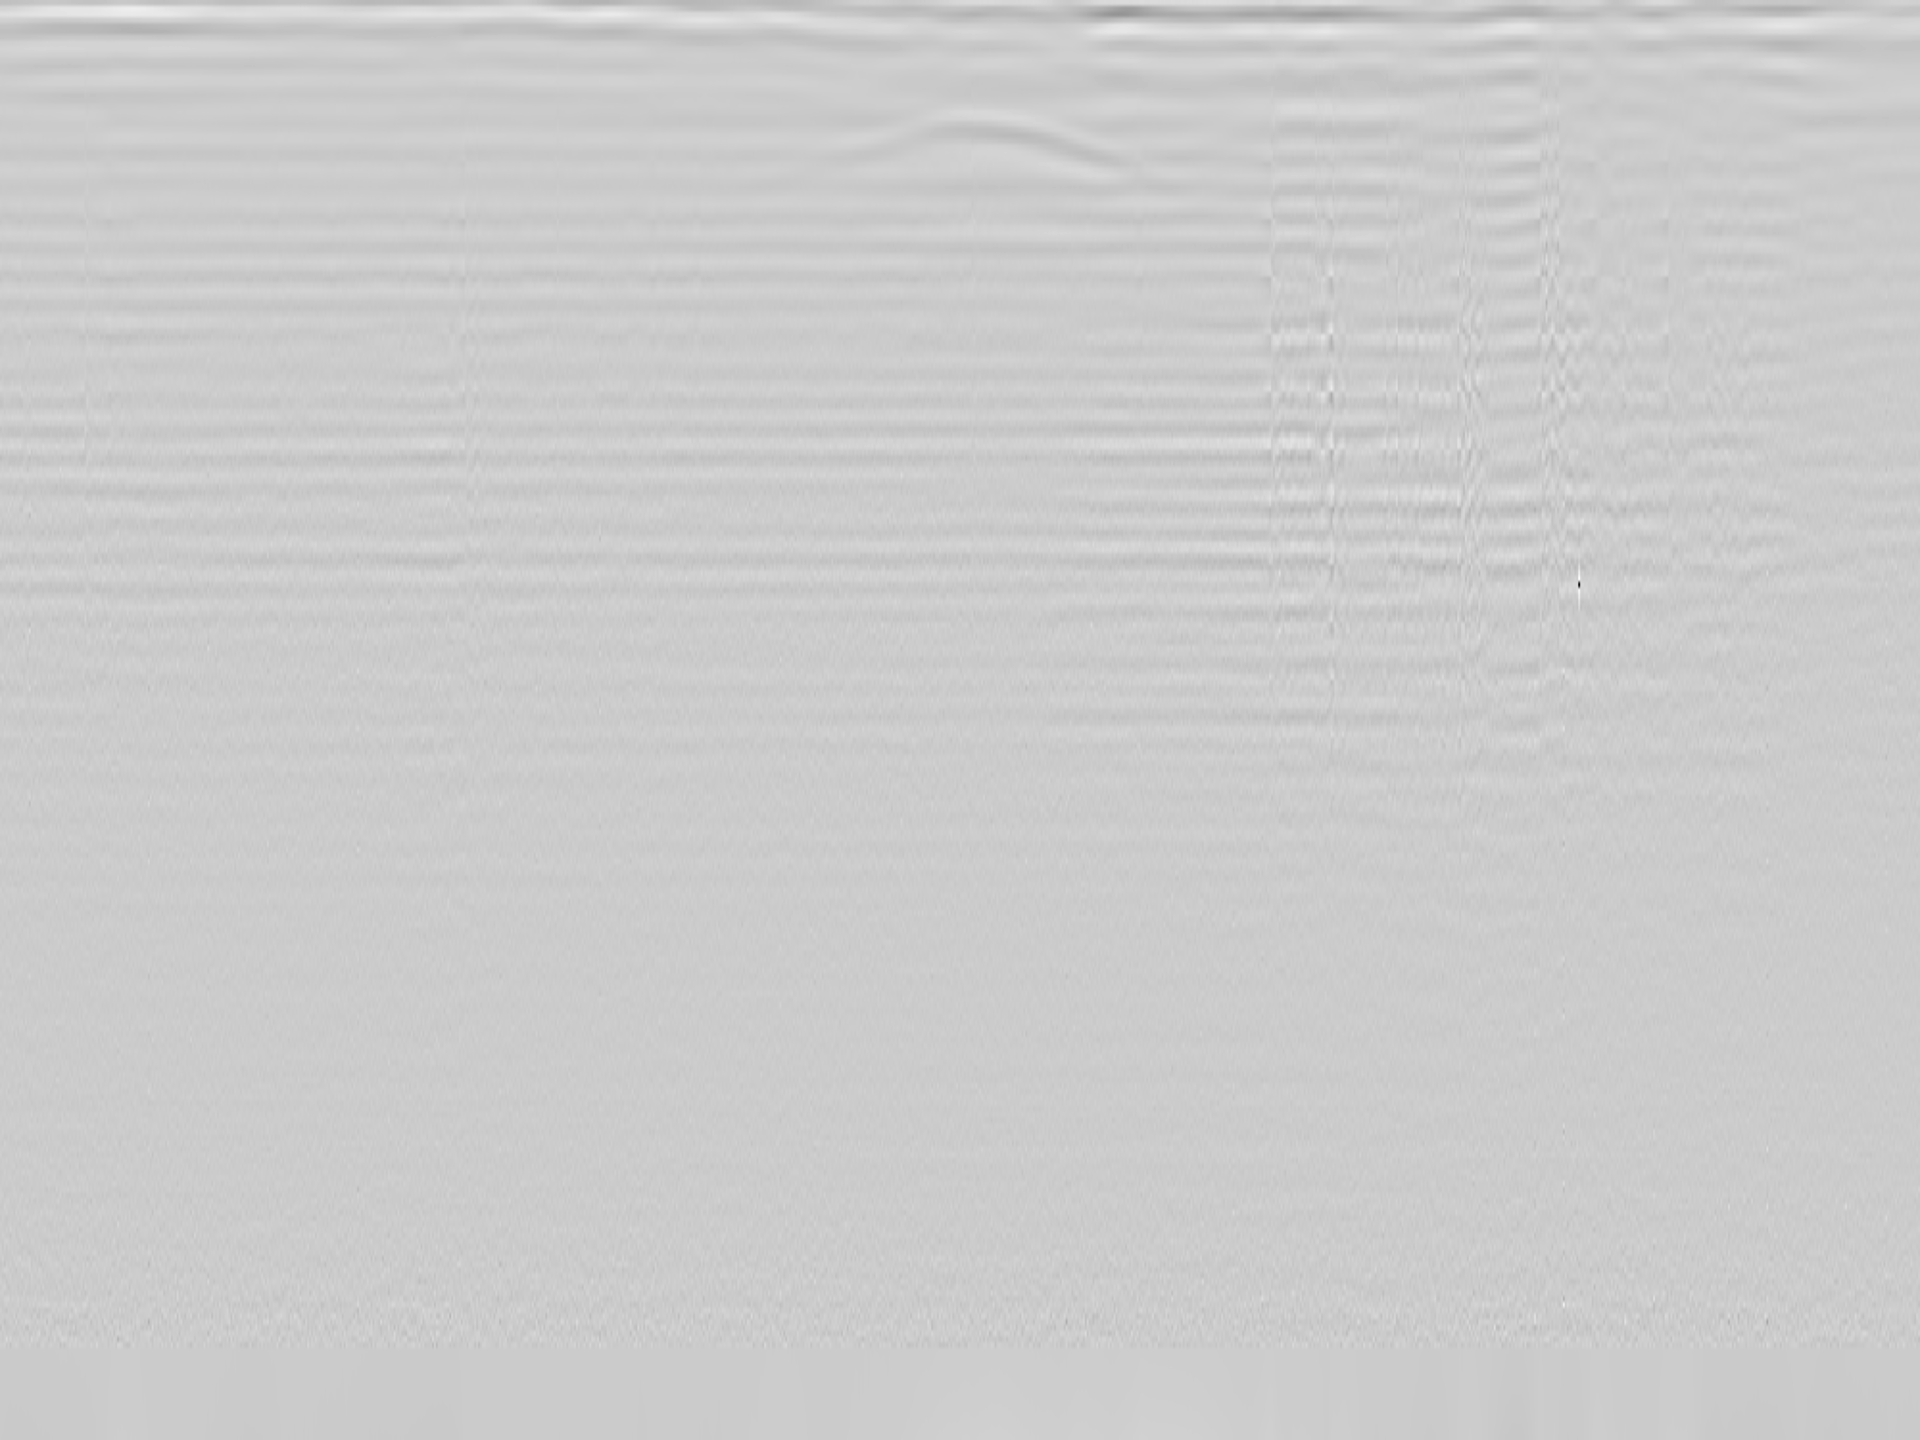Tunnel: (830, 106, 1147, 169)
